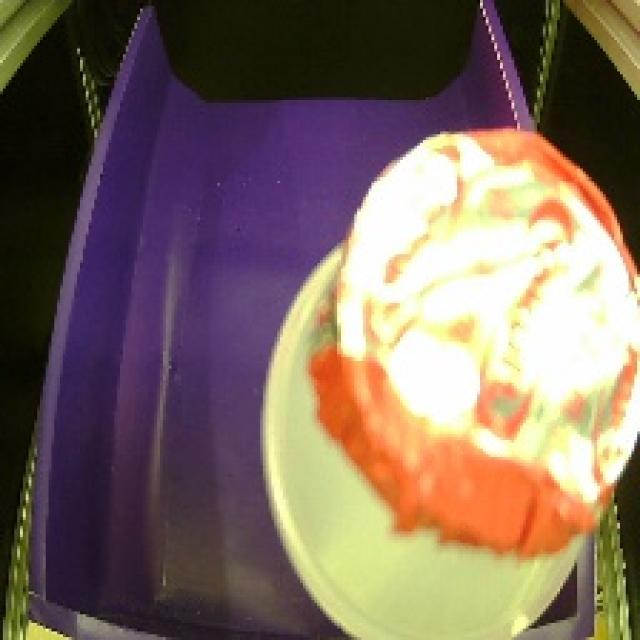plastic: (246, 114, 637, 640)
